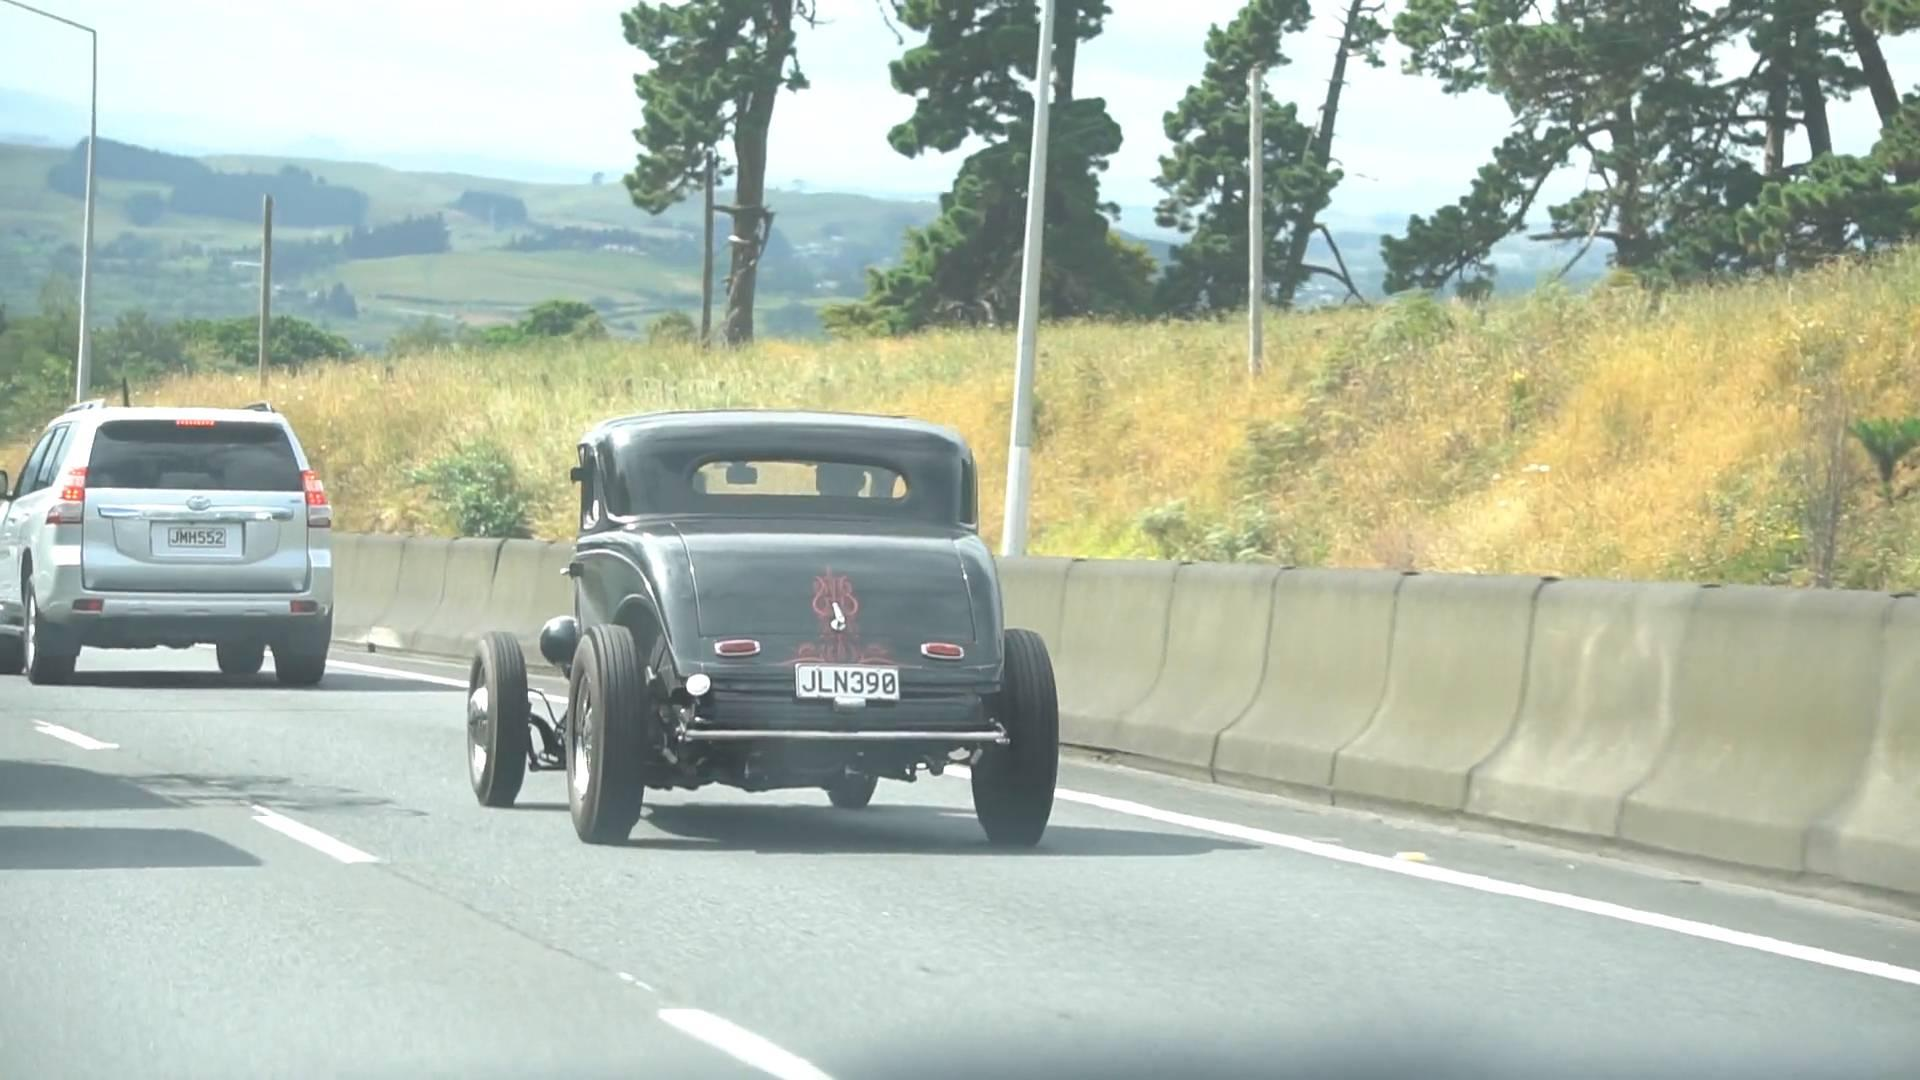car: (459, 397, 1062, 844), (0, 397, 338, 680)
license_plate: (794, 656, 905, 704), (166, 525, 231, 548)
